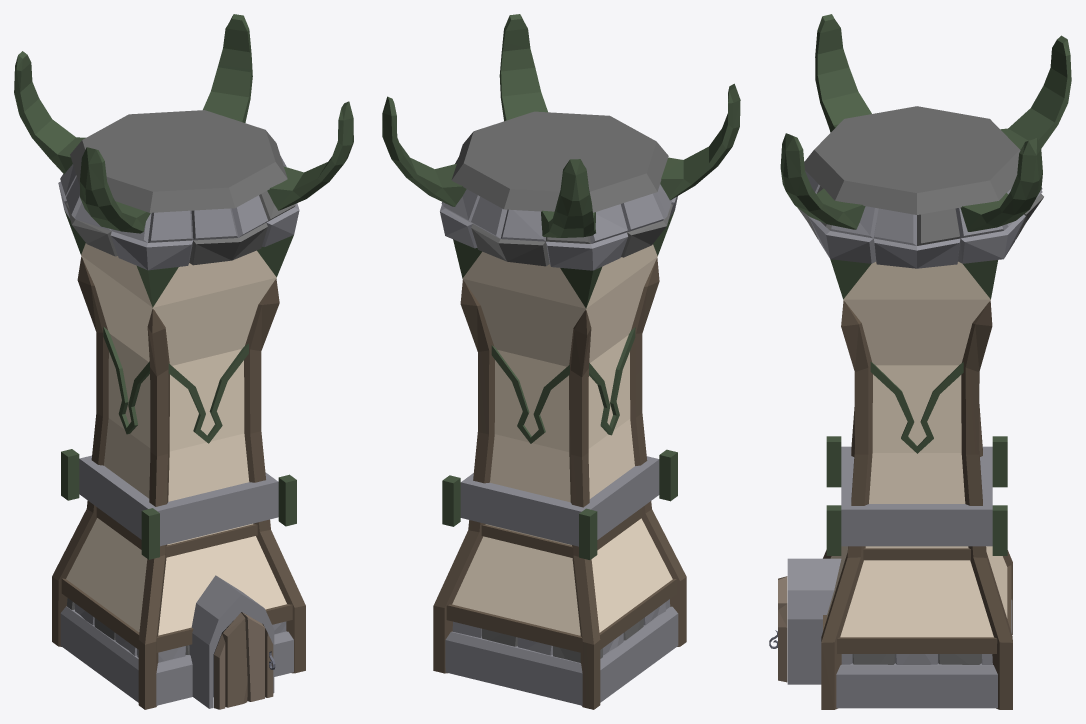
The model's file is Poison_tower_LVL_3.fbx.
3 views of the same model, side by side, from view 1: azimuth 30°, elevation 25°; view 2: azimuth 150°, elevation 25°; view 3: azimuth 270°, elevation 25° (orthographic). The views are drawn at different scales.
Parts seen in each view (by area): view 1: Poison_tower_LVL_2.001; view 2: Poison_tower_LVL_2.001; view 3: Poison_tower_LVL_2.001.
Part boxes in pixels (left/top/right/bottom): Poison_tower_LVL_2.001: left=14, top=14, right=353, bottom=709; Poison_tower_LVL_2.001: left=382, top=14, right=740, bottom=709; Poison_tower_LVL_2.001: left=769, top=14, right=1071, bottom=709.
Bounding box in the file's own units: 610 × 1283 × 597.
